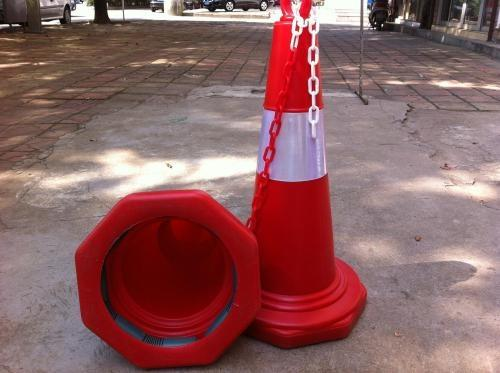cone_barrel: (242, 10, 352, 329)
